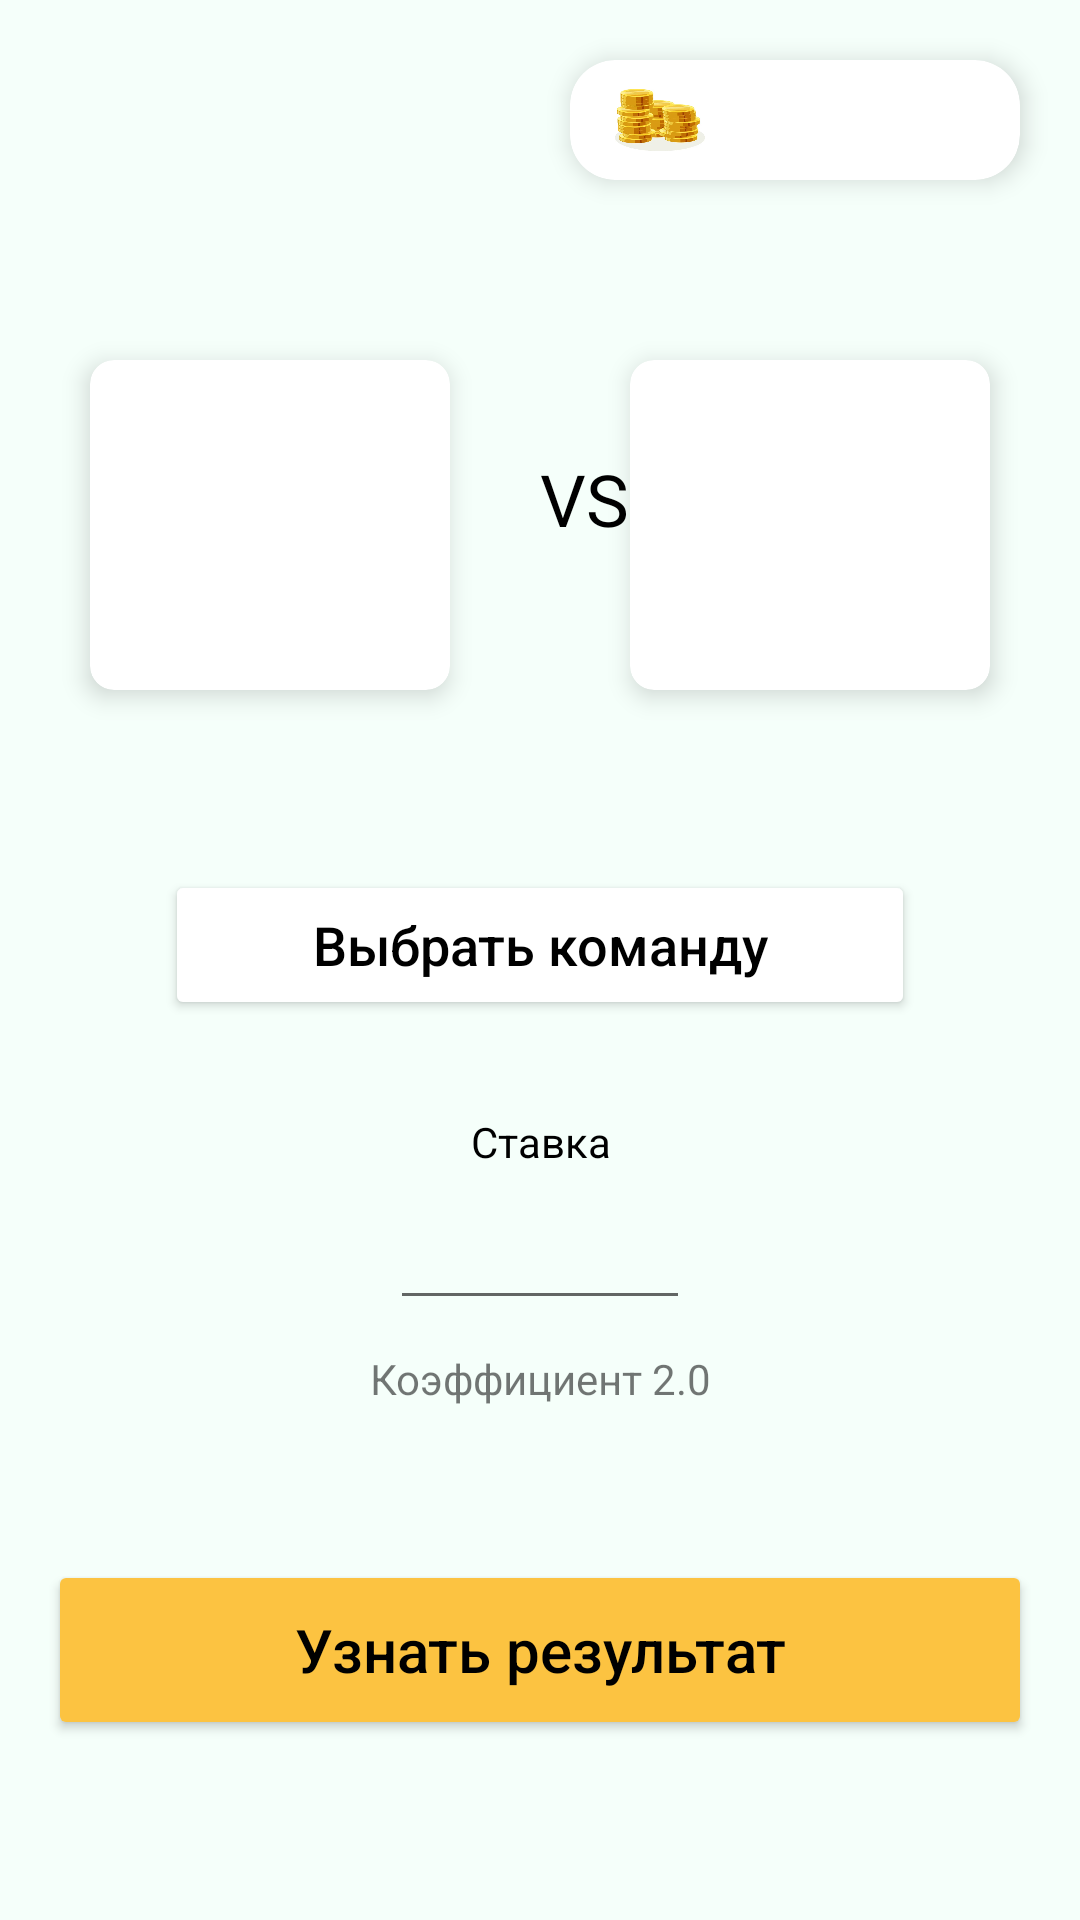

Locate icon controls on the screen. Image size 1080*1920, boxes as (x1=x1, y1=y1, x2=x2, y2=y2).
money: (x1=615, y1=89, x2=705, y2=151)
